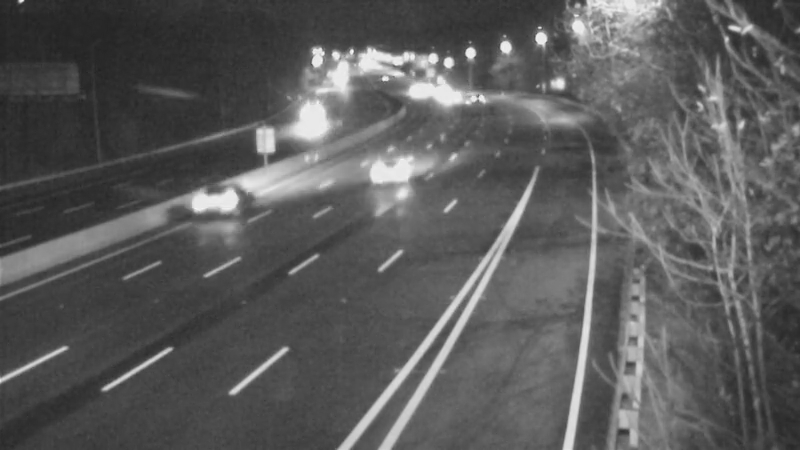vehicle: (351, 132, 431, 212), (172, 165, 252, 245), (418, 76, 468, 126), (445, 72, 495, 122), (288, 94, 338, 144)
